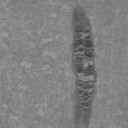oxide scale of plate system: (69, 2, 99, 128)
